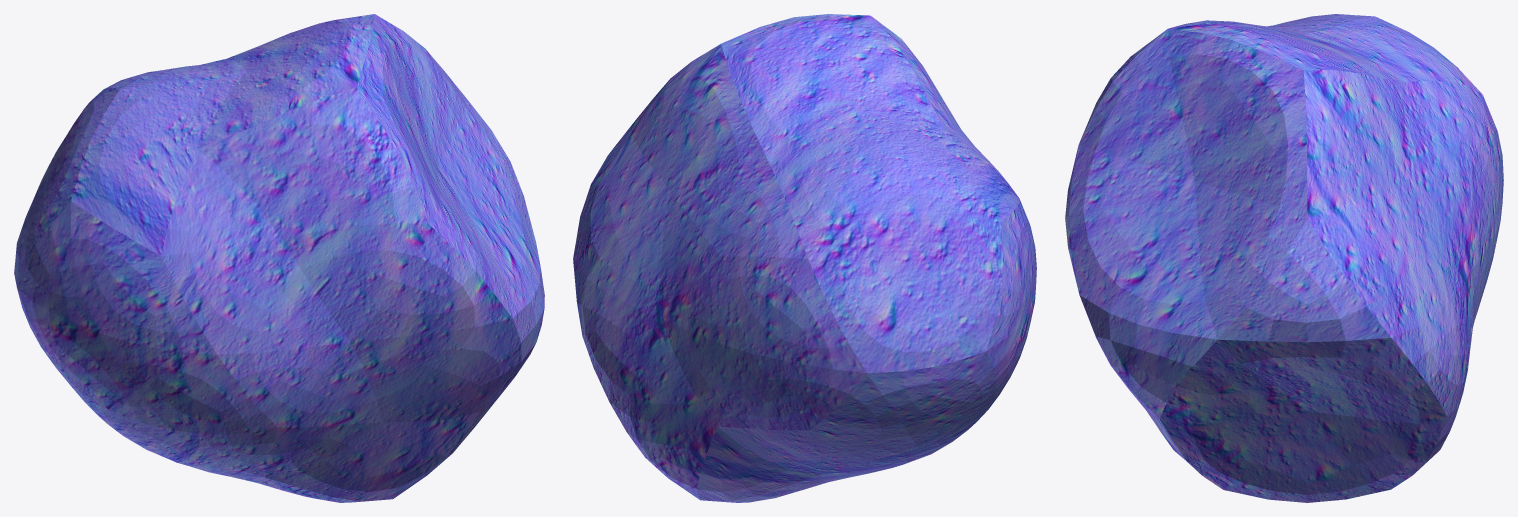
Rendered from mediumasteroid13_LOD2.fbx.
The picture shows the model from 3 angles, left to right: view 1: azimuth 30°, elevation 25°; view 2: azimuth 150°, elevation 25°; view 3: azimuth 270°, elevation 25°; orthographic projection. The views are drawn at different scales.
Parts seen in each view (by area): view 1: Icosphere; view 2: Icosphere; view 3: Icosphere.
Part boxes in pixels (x1,y1,x2,y2): Icosphere: (14, 14, 544, 502); Icosphere: (573, 14, 1036, 502); Icosphere: (1065, 14, 1503, 502).
Size of the model in its own units: 250 by 250 by 216.
